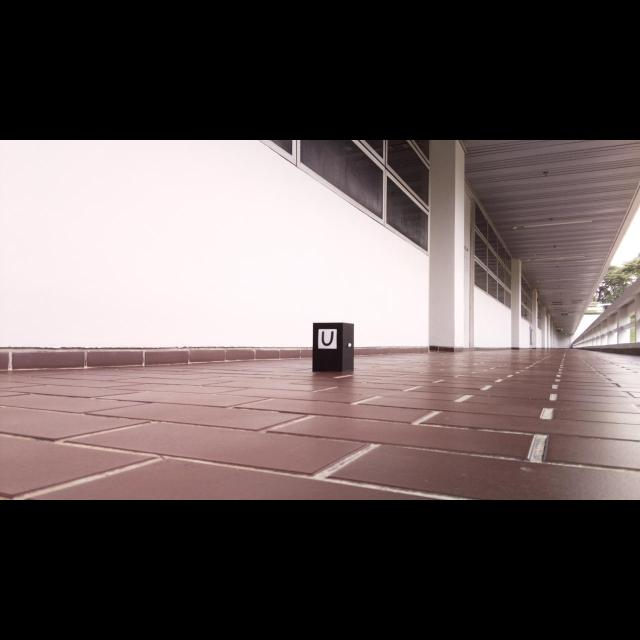U: (321, 331, 334, 346)
